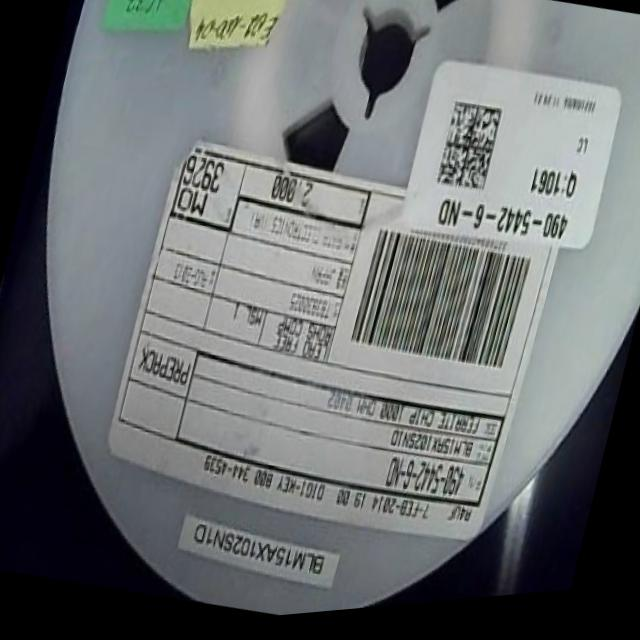datamatrix: (431, 101, 506, 207)
